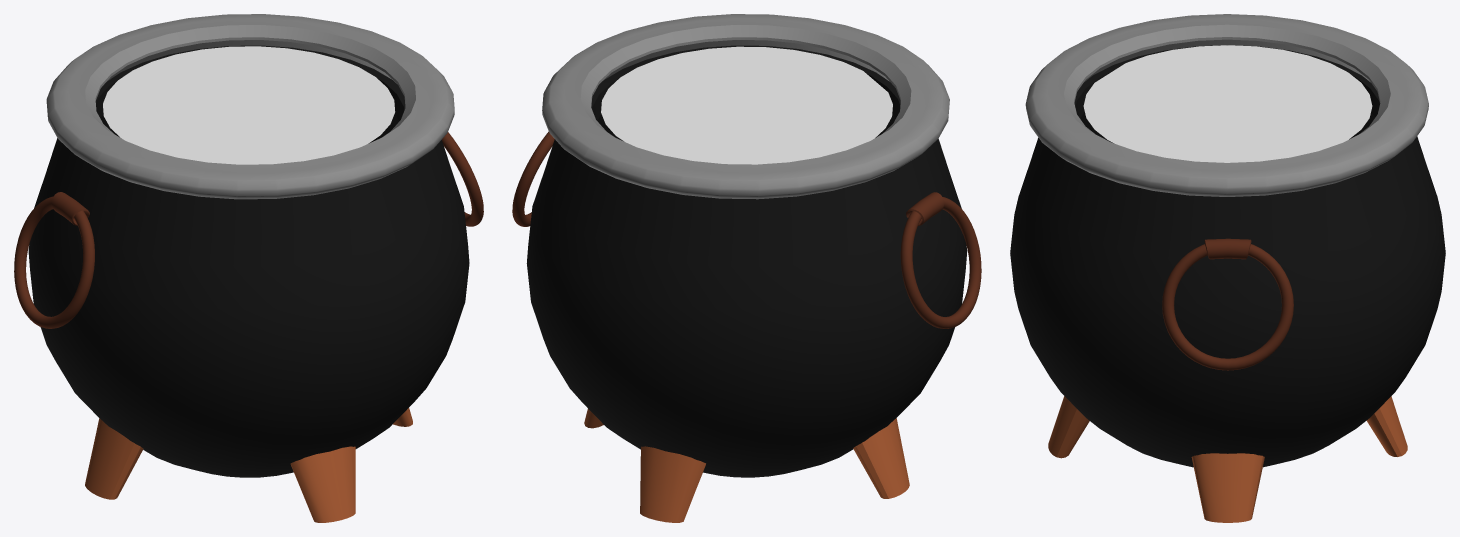
Rendered from cauldron.glb.
3 views of the same model, side by side, from view 1: azimuth 30°, elevation 25°; view 2: azimuth 150°, elevation 25°; view 3: azimuth 270°, elevation 25° (orthographic).
Parts seen in each view (by area): view 1: cauldron, lip, surface, feet, handle; view 2: cauldron, lip, surface, feet, handle; view 3: cauldron, lip, surface, feet, handle.
Part boxes in pixels (left/top/right/bottom): cauldron: left=28, top=45, right=469, bottom=477; lip: left=46, top=14, right=454, bottom=199; surface: left=103, top=46, right=395, bottom=164; feet: left=85, top=408, right=412, bottom=522; handle: left=14, top=132, right=483, bottom=328; cauldron: left=526, top=45, right=967, bottom=477; lip: left=542, top=14, right=949, bottom=199; surface: left=601, top=46, right=892, bottom=164; feet: left=584, top=409, right=909, bottom=522; handle: left=512, top=131, right=981, bottom=328; cauldron: left=1010, top=45, right=1445, bottom=467; lip: left=1025, top=14, right=1428, bottom=196; surface: left=1083, top=45, right=1372, bottom=162; feet: left=1048, top=396, right=1407, bottom=522; handle: left=1162, top=238, right=1293, bottom=370.
Bounding box in the file's own units: 2.26 × 1.8 × 2.
